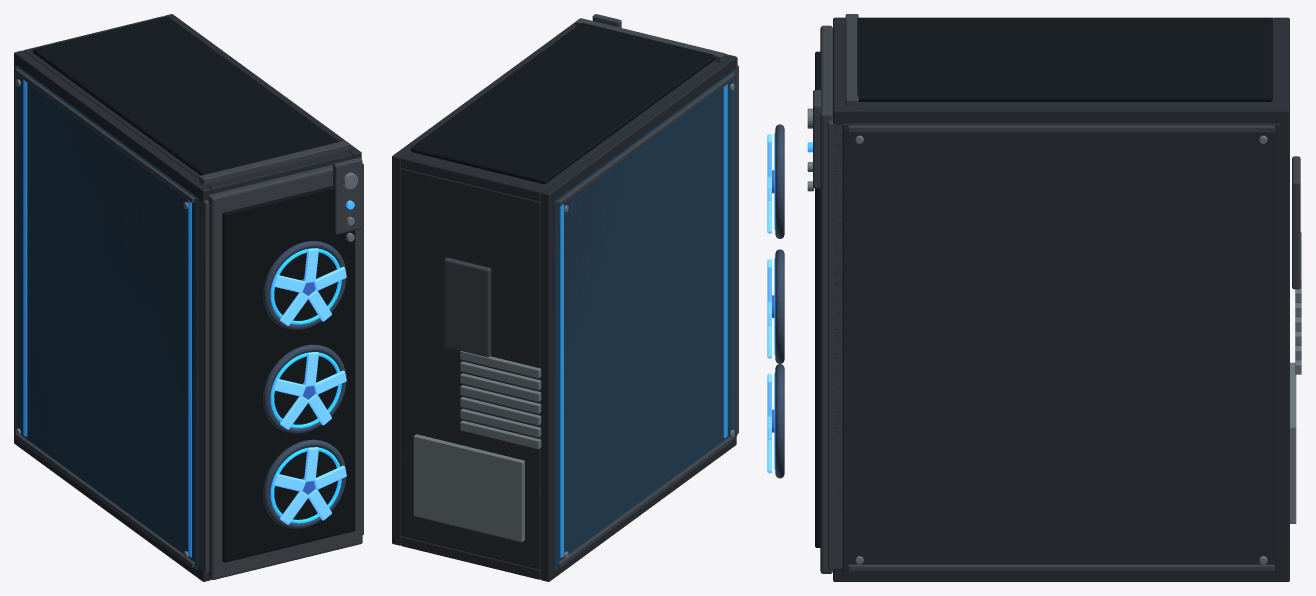
Rendered from computer_case.glb.
The picture shows the model from 3 angles, left to right: view 1: azimuth 30°, elevation 25°; view 2: azimuth 150°, elevation 25°; view 3: azimuth 270°, elevation 25°; orthographic projection. The views are drawn at different scales.
Parts seen in each view (by area): view 1: CASE_Frame_LeftRail, CASE_GlassPanel, CASE_FrontMesh, CASE_TopVentilation, CASE_FrontBezel, CASE_Frame_FrontLeft, CASE_Frame_TopRail, CASE_FrontIO, CASE_GlassPanel_BlueRail_Rear, CASE_TopVentFrame, CASE_TempFanVis_03_Frame, CASE_TempFanVis_01_Frame (+9 smaller); view 2: CASE_Frame_LeftRail, CASE_GlassPanel, CASE_Frame_RearRail, CASE_TopVentilation, CASE_PSUMountArea, CASE_Frame_RightRail, CASE_RearIO, CASE_Frame_TopRail, CASE_Frame_FrontLeft, CASE_GlassPanel_BlueRail_Front, CASE_Frame_BottomRail, CASE_GlassPanel_TopTrim (+10 smaller); view 3: CASE_SolidPanel, CASE_TopVentilation, CASE_Frame_RightRail, CASE_Frame_FrontRight, CASE_FrontBezel, CASE_Frame_TopRail, CASE_SolidPanel_BottomTrim, CASE_SolidPanel_TopTrim, CASE_FrontMesh, CASE_TopVentFrame, CASE_RearIO, CASE_TempFanVis_01_Frame (+4 smaller).
Boxes of the visible parts, left/top/right/bottom form: CASE_Frame_LeftRail: left=14, top=50, right=211, bottom=581; CASE_GlassPanel: left=15, top=66, right=198, bottom=569; CASE_FrontMesh: left=222, top=186, right=355, bottom=562; CASE_TopVentilation: left=33, top=16, right=338, bottom=175; CASE_FrontBezel: left=208, top=162, right=362, bottom=579; CASE_Frame_FrontLeft: left=198, top=199, right=209, bottom=573; CASE_Frame_TopRail: left=23, top=16, right=352, bottom=193; CASE_FrontIO: left=333, top=157, right=362, bottom=234; CASE_GlassPanel_BlueRail_Rear: left=23, top=80, right=27, bottom=436; CASE_TopVentFrame: left=199, top=140, right=350, bottom=185; CASE_TempFanVis_03_Frame: left=263, top=241, right=346, bottom=329; CASE_TempFanVis_01_Frame: left=263, top=439, right=346, bottom=528; CASE_Frame_LeftRail: left=540, top=55, right=736, bottom=581; CASE_GlassPanel: left=553, top=70, right=735, bottom=569; CASE_Frame_RearRail: left=401, top=168, right=540, bottom=569; CASE_TopVentilation: left=410, top=23, right=715, bottom=184; CASE_PSUMountArea: left=413, top=434, right=524, bottom=542; CASE_Frame_RightRail: left=392, top=22, right=575, bottom=545; CASE_RearIO: left=444, top=257, right=491, bottom=357; CASE_Frame_TopRail: left=401, top=54, right=727, bottom=201; CASE_Frame_FrontLeft: left=732, top=65, right=738, bottom=434; CASE_GlassPanel_BlueRail_Front: left=723, top=84, right=727, bottom=437; CASE_Frame_BottomRail: left=401, top=536, right=540, bottom=579; CASE_GlassPanel_TopTrim: left=557, top=73, right=735, bottom=206; CASE_SolidPanel: left=842, top=123, right=1280, bottom=571; CASE_TopVentilation: left=857, top=17, right=1272, bottom=101; CASE_Frame_RightRail: left=833, top=106, right=1289, bottom=581; CASE_Frame_FrontRight: left=827, top=120, right=842, bottom=569; CASE_FrontBezel: left=820, top=25, right=832, bottom=573; CASE_Frame_TopRail: left=833, top=23, right=1289, bottom=106; CASE_SolidPanel_BottomTrim: left=848, top=564, right=1274, bottom=571; CASE_SolidPanel_TopTrim: left=848, top=125, right=1274, bottom=132; CASE_FrontMesh: left=815, top=51, right=820, bottom=547; CASE_TopVentFrame: left=845, top=14, right=858, bottom=106; CASE_RearIO: left=1292, top=156, right=1300, bottom=289; CASE_TempFanVis_01_Frame: left=775, top=364, right=784, bottom=478.
Bounding box in the file's own units: 0.21 × 0.46 × 0.465.
